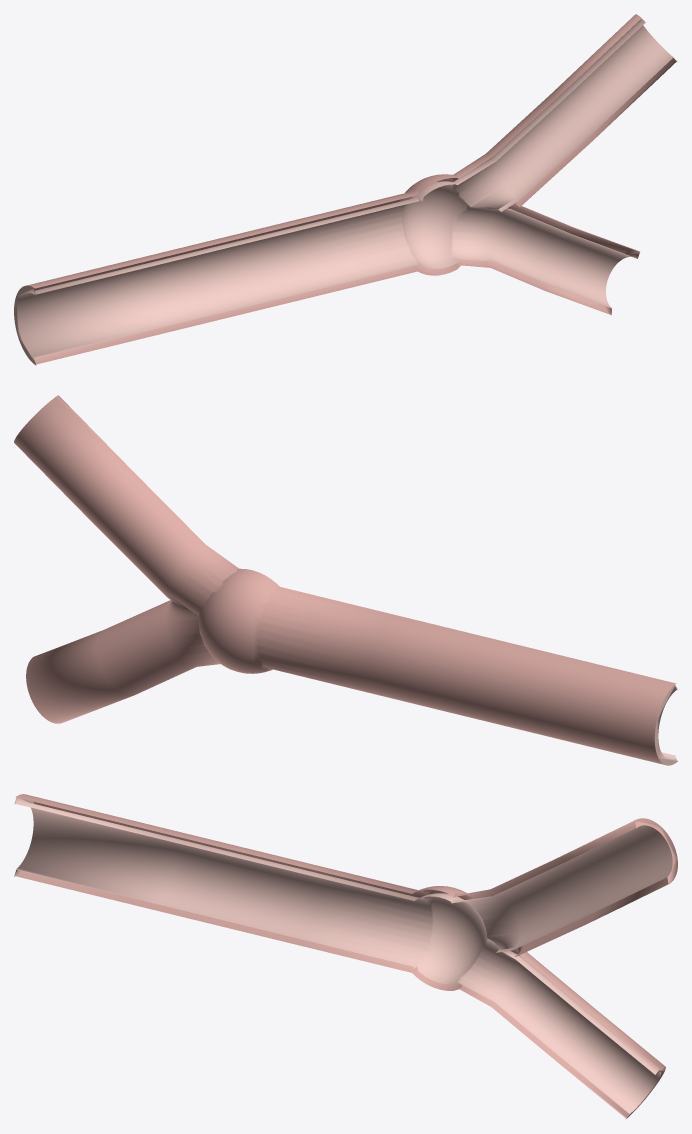
The model's file is central-airway-cutaway-3f7b0ebe5576.glb.
The picture shows the model from 3 angles, top to bottom: view 1: azimuth 30°, elevation 25°; view 2: azimuth 150°, elevation 25°; view 3: azimuth 330°, elevation 25°; orthographic projection. The views are drawn at different scales.
Visible parts, largest first — view 1: Airway_Cutaway_Inner_Lumen, Airway_Cutaway_Outer_Wall; view 2: Airway_Cutaway_Outer_Wall; view 3: Airway_Cutaway_Inner_Lumen, Airway_Cutaway_Outer_Wall.
Boxes of the visible parts, x1=… form: Airway_Cutaway_Inner_Lumen: x1=14, y1=19, x2=673, y2=365; Airway_Cutaway_Outer_Wall: x1=27, y1=14, x2=677, y2=364; Airway_Cutaway_Outer_Wall: x1=14, y1=395, x2=676, y2=764; Airway_Cutaway_Inner_Lumen: x1=14, y1=797, x2=672, y2=1113; Airway_Cutaway_Outer_Wall: x1=15, y1=794, x2=677, y2=1118.
Bounding box in the file's own units: 0.2098 × 0.0948 × 0.0187.
